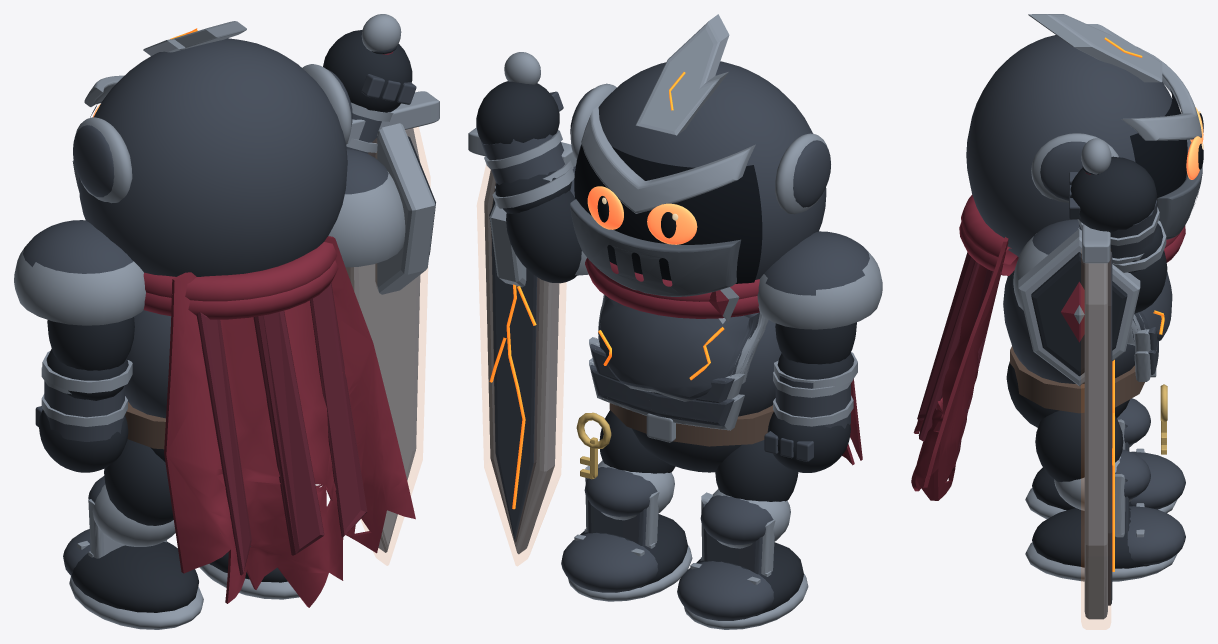
Rendered from ember-guardian.glb.
3 views of the same model, side by side, from view 1: azimuth 30°, elevation 25°; view 2: azimuth 150°, elevation 25°; view 3: azimuth 270°, elevation 25° (orthographic). The views are drawn at different scales.
Parts seen in each view (by area): view 1: armor-batch (×23), side-crest-rim, blade-glow; view 2: armor-batch (×28), blade-glow, ember-eye (×2), side-crest-rim, key-ring; view 3: armor-batch (×26), side-crest-face, side-crest-rim, blade-glow, crimson-diamond, ember-eye.
Part boxes in pixels (box(x1,y1,x2,y2)): armor-batch (×23): box(14, 14, 439, 629); side-crest-rim: box(375, 123, 435, 294); blade-glow: box(361, 127, 429, 565); armor-batch (×28): box(468, 14, 882, 629); blade-glow: box(477, 166, 565, 565); ember-eye (×2): box(587, 186, 697, 244); side-crest-rim: box(489, 203, 526, 287); key-ring: box(576, 412, 611, 448); armor-batch (×26): box(911, 14, 1202, 619); side-crest-face: box(1031, 252, 1127, 376); side-crest-rim: box(1018, 228, 1140, 386); blade-glow: box(1081, 383, 1110, 629); crimson-diamond: box(1061, 281, 1084, 342); ember-eye: box(1186, 136, 1202, 179).
Bounding box in the file's own units: 1.28 × 1.76 × 0.8638.
